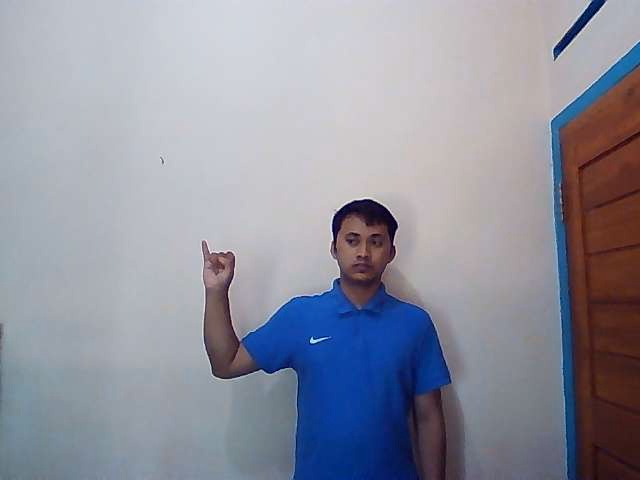I: (200, 238, 237, 293)
